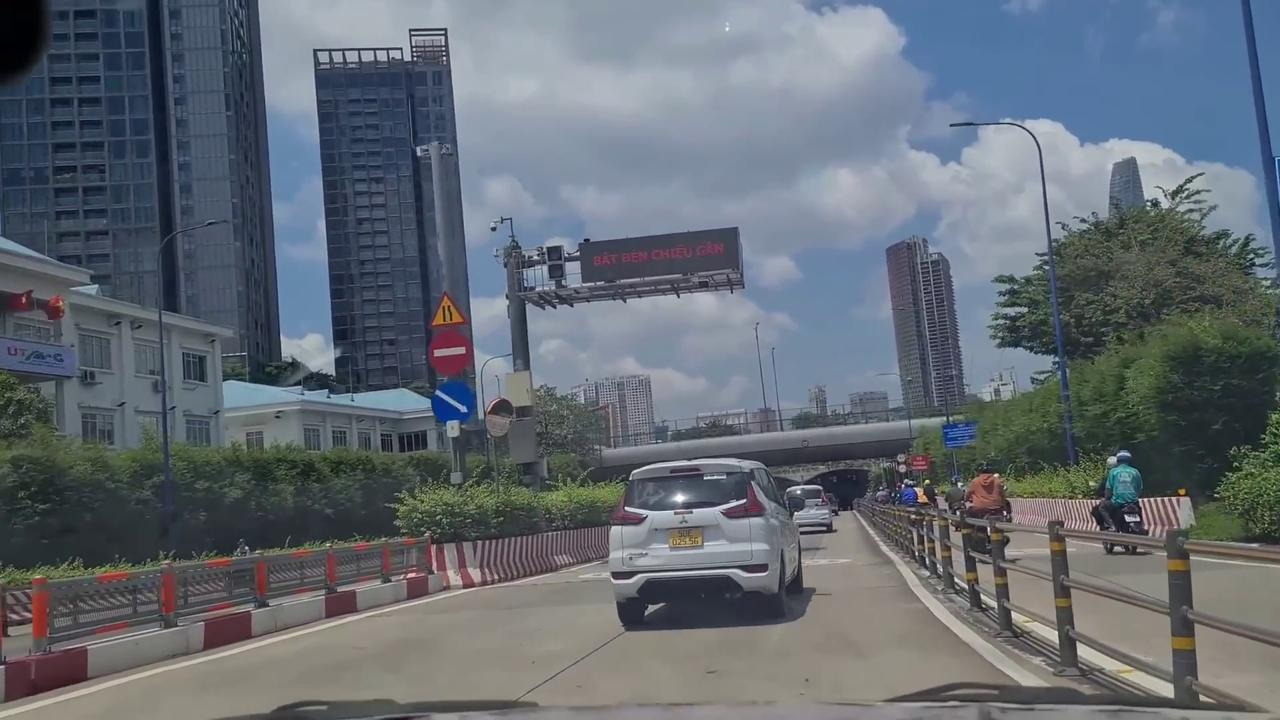Cấm đi ngược chiều: (429, 328, 474, 377)
Hướng phải đi vòng sang phải: (429, 378, 477, 422)
Đuờng hẹp: (428, 290, 468, 326)
